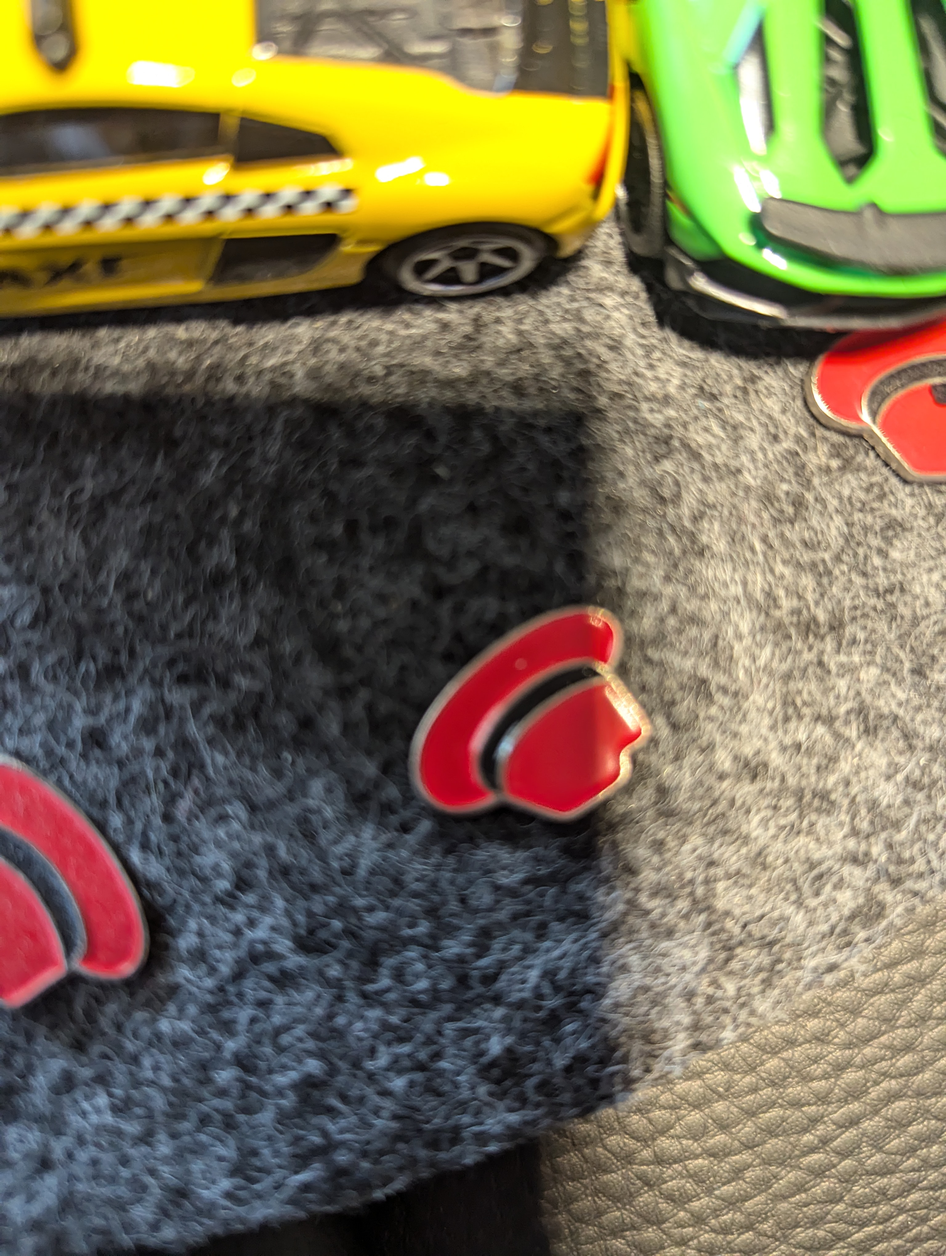Red-Hat: (388, 586, 663, 851), (0, 737, 180, 1024), (802, 264, 946, 497)
Scratch: (918, 373, 946, 411)
